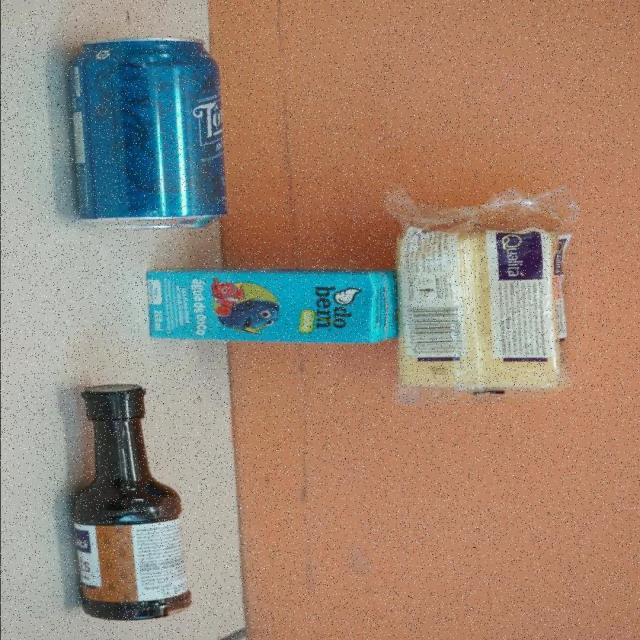CoconutWater: (142, 267, 398, 345)
EnglishSauce: (66, 382, 191, 622)
Sponge: (383, 180, 581, 404)
Tonic: (63, 38, 226, 230)
